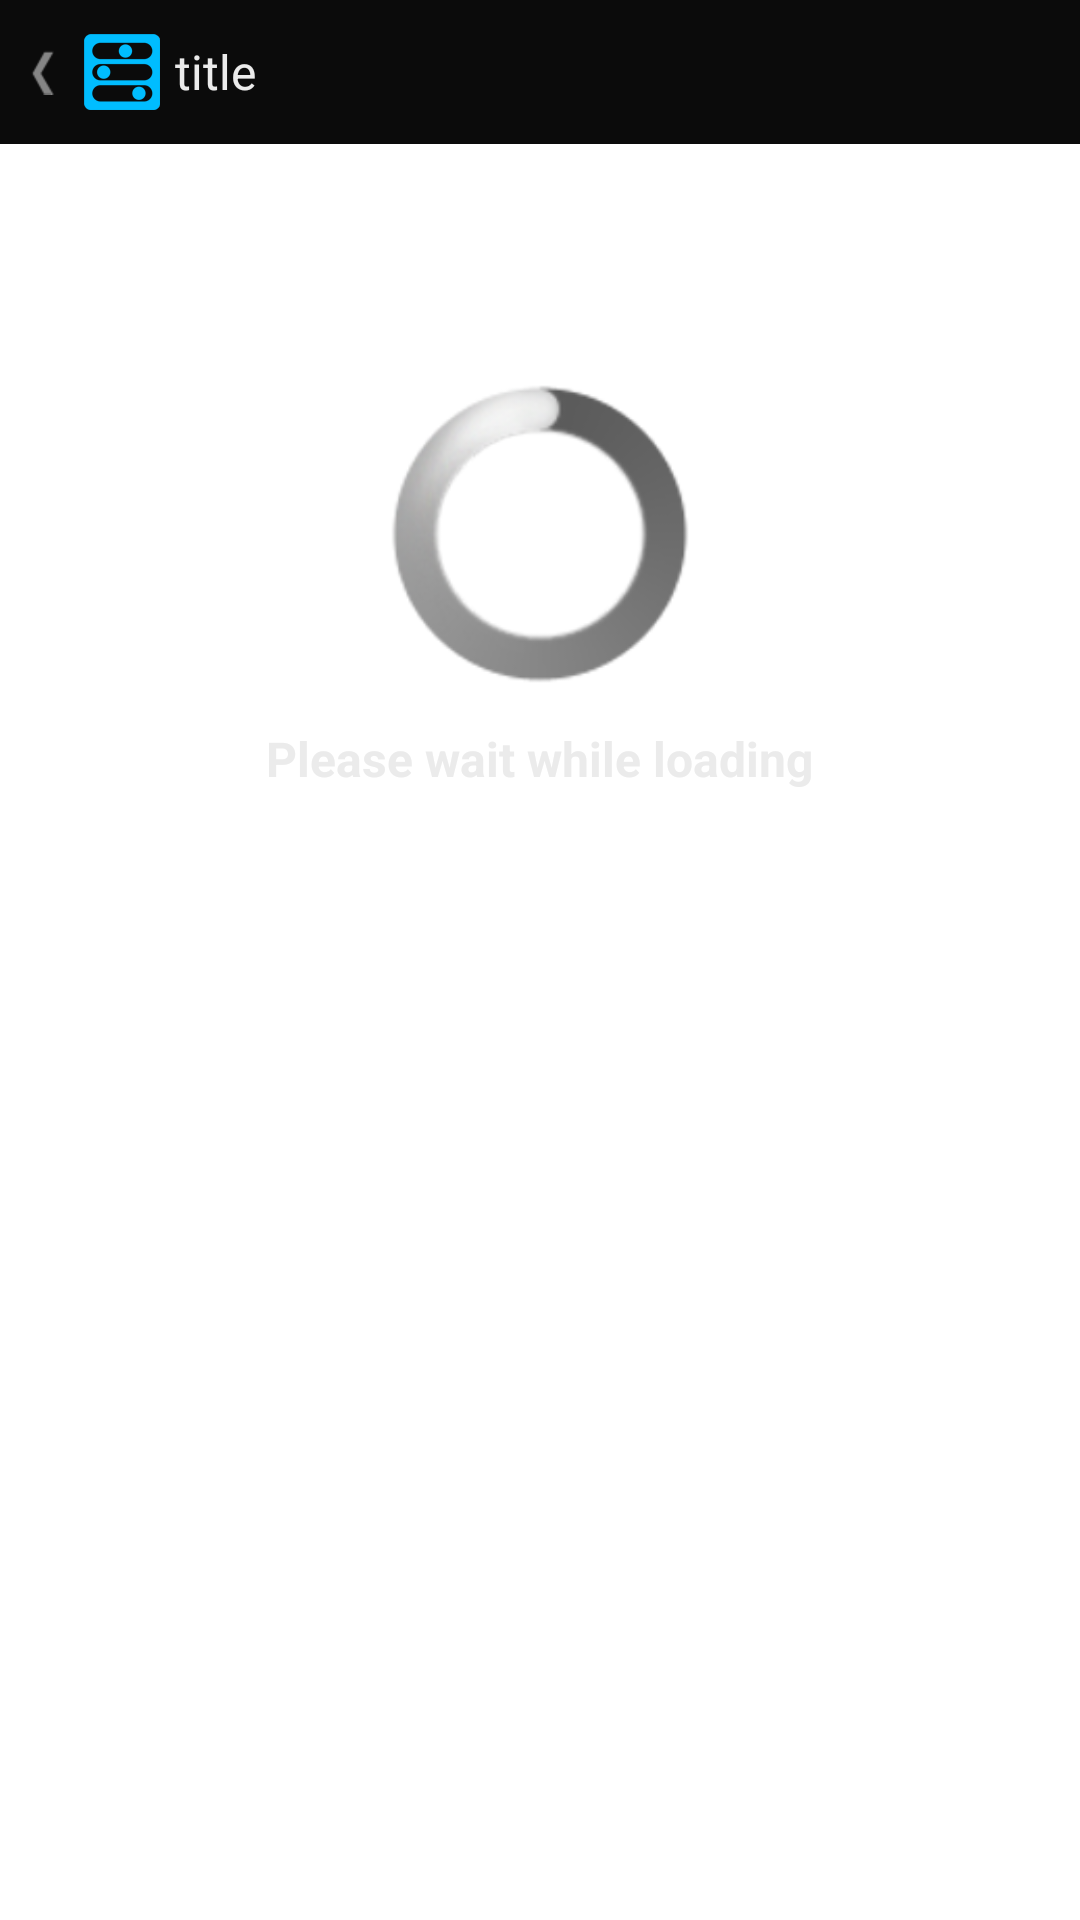

Locate icon controls on the screen. Image size 1080x1920, boxes as (x1, y1, x2, y2).
back: (32, 52, 54, 95)
